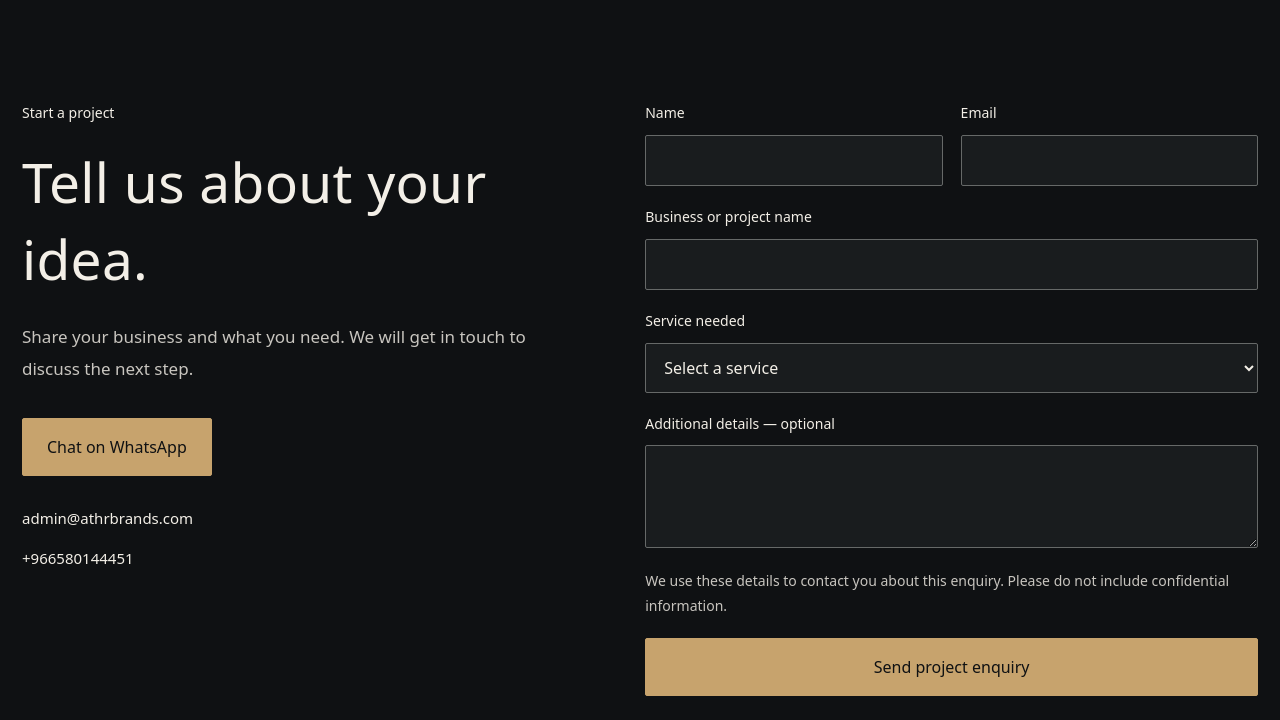
Studio contact › keeps the brief on server errors and offers direct WhatsApp contact
In the field labelled "Name": (794, 161) [645,135,943,186], type "Test user"
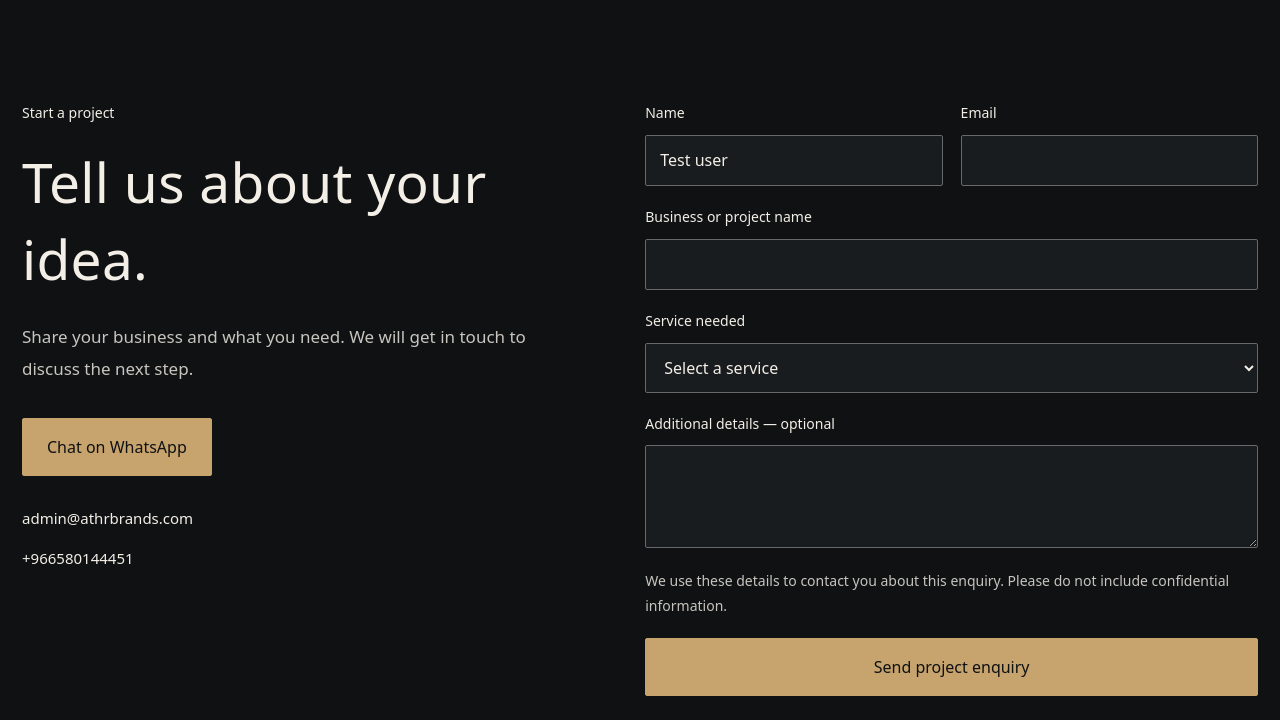
In the field labelled "Email": (1109, 161) [961,135,1258,186], type "test@example.com"
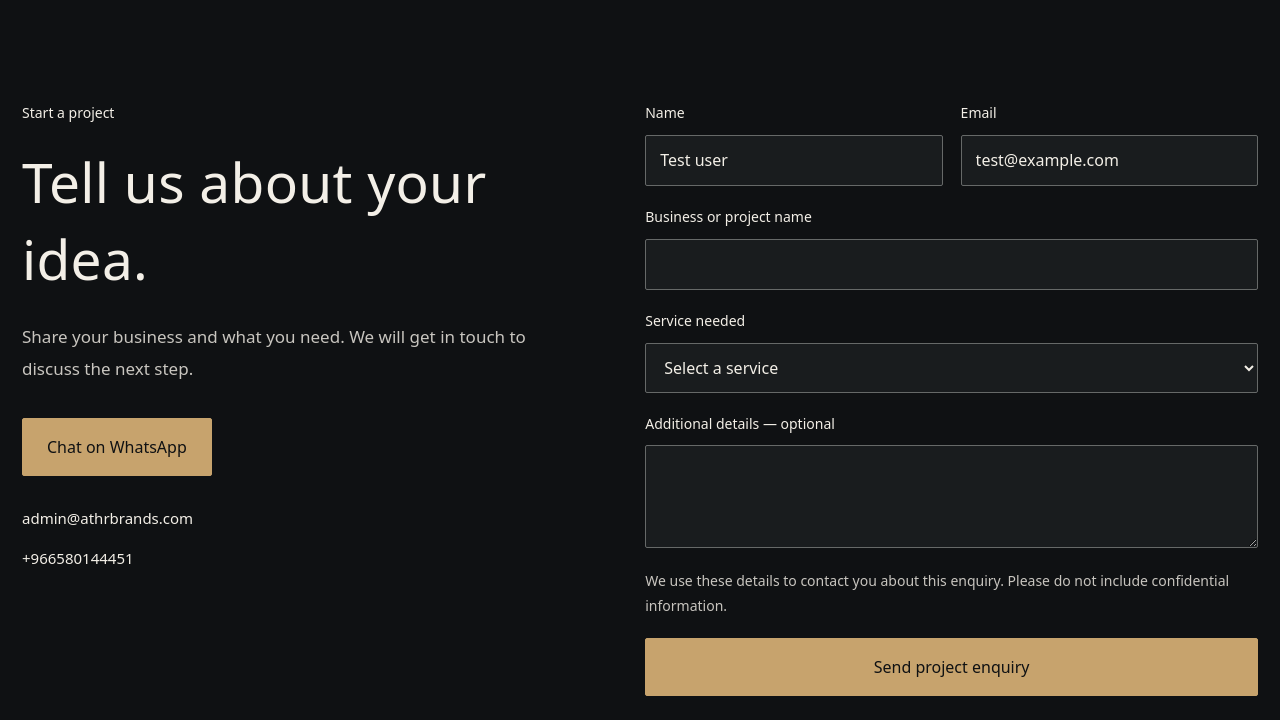
In the field labelled "Business or project name": (952, 265) [645,239,1258,290], type "Test business"
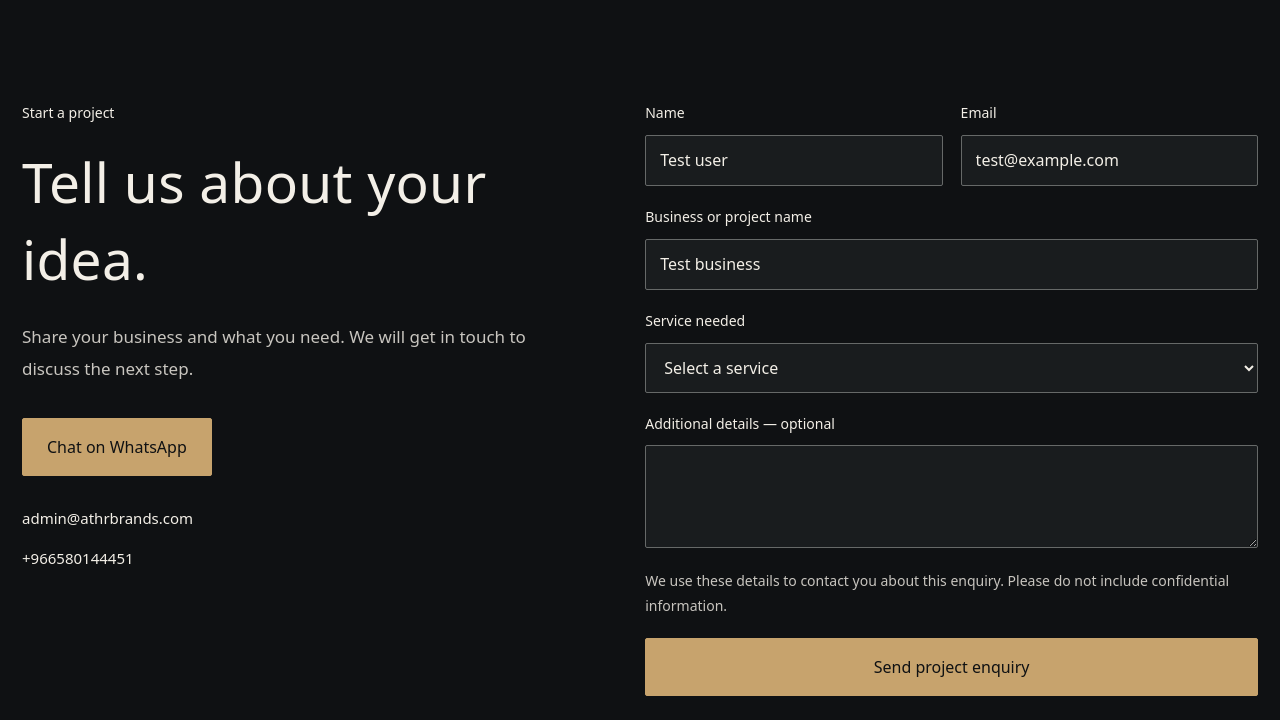
Select "Brand strategy" in the dropdown labelled "Service needed": (952, 368) [645,343,1258,393]
(page scrolled)
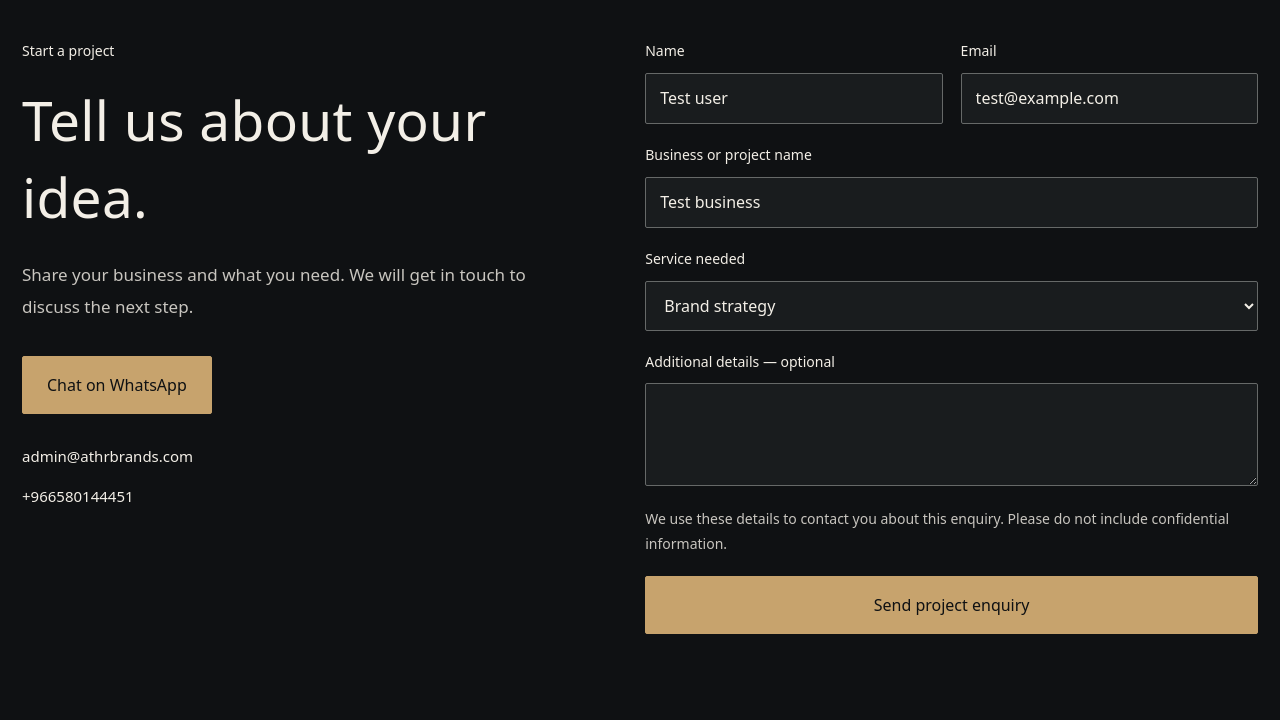
Submit the form, box [645,40,1258,680]
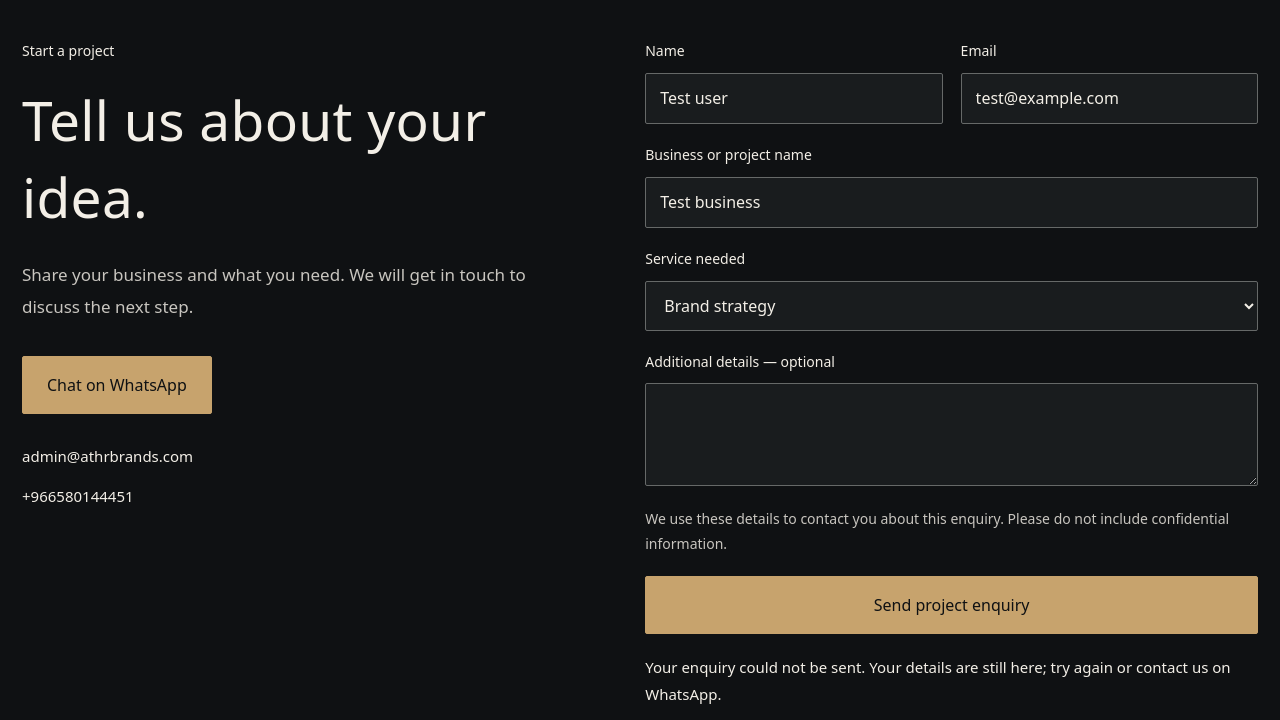
Result: the message shows "could not be sent" at [645,657,1231,704]
